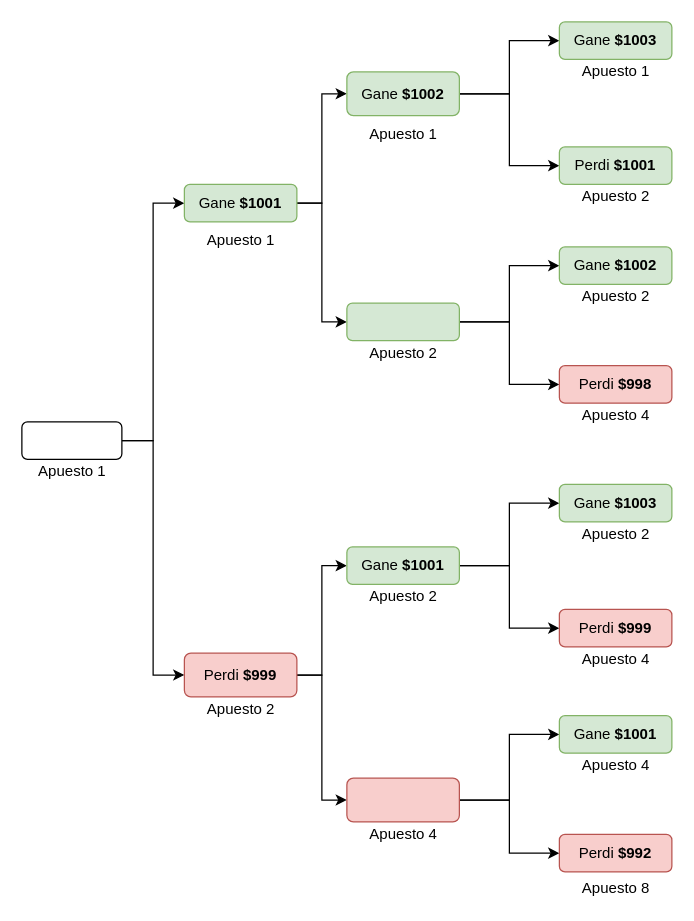
The diagram is 694 pixels wide and 921 high, and some of its shapes have lost their labels. Here are the shapes that lost their labels. From the top down, the centre of each, then its label:
At point 402,321: "Perdi $1000".
At point 71,440: "Inicio $1000".
At point 402,799: "Perdi $997".
